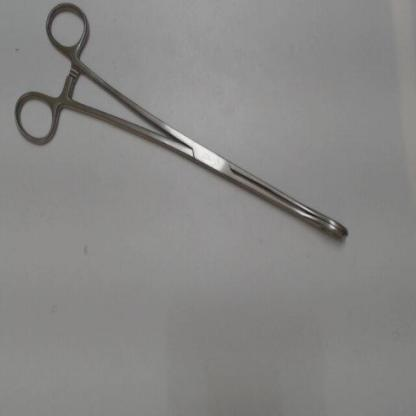Sponge Forceps: (8, 1, 355, 256)
